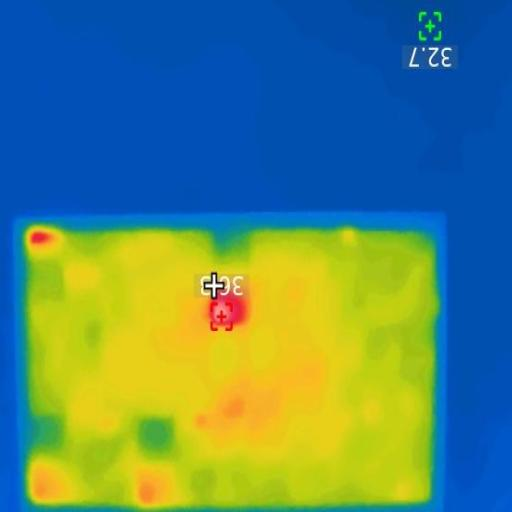hotspot: (208, 291, 247, 327), (26, 229, 52, 248)
